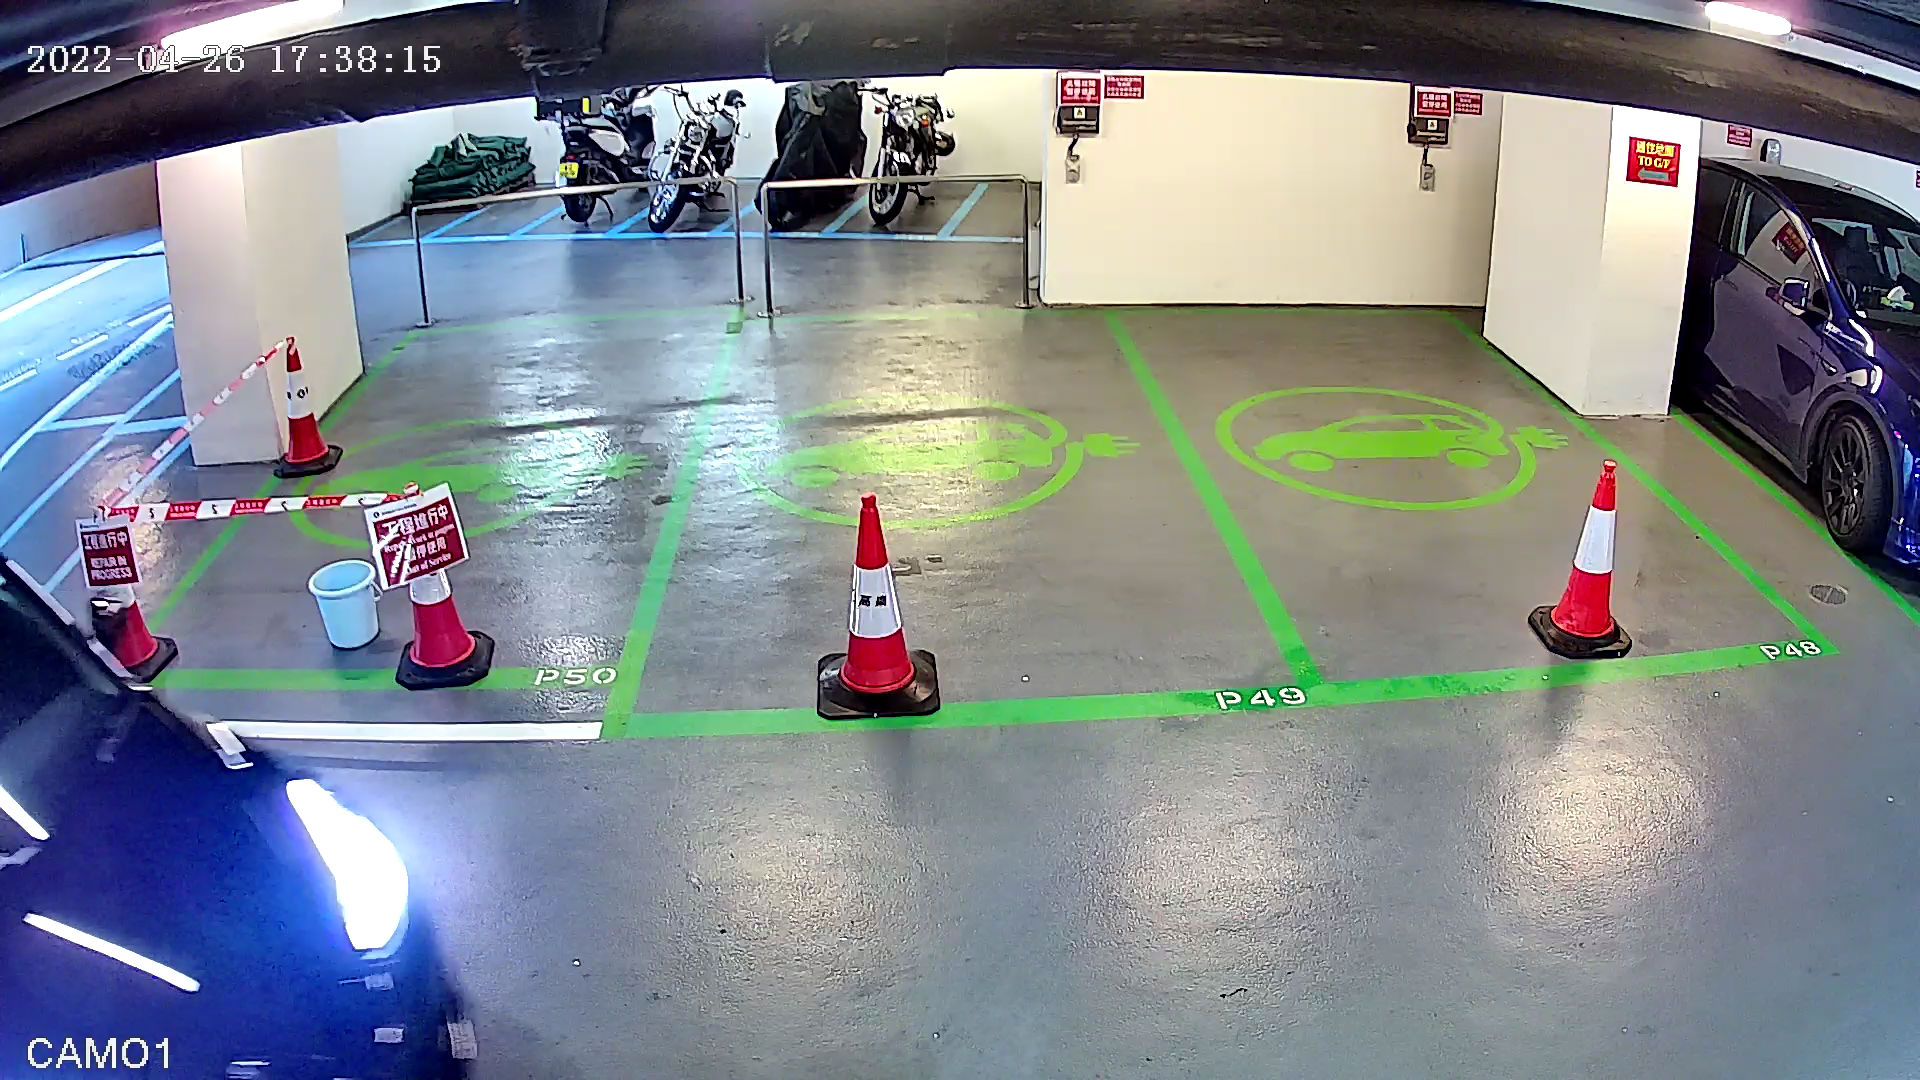space: (589, 287, 1331, 764), (1091, 272, 1857, 723)
